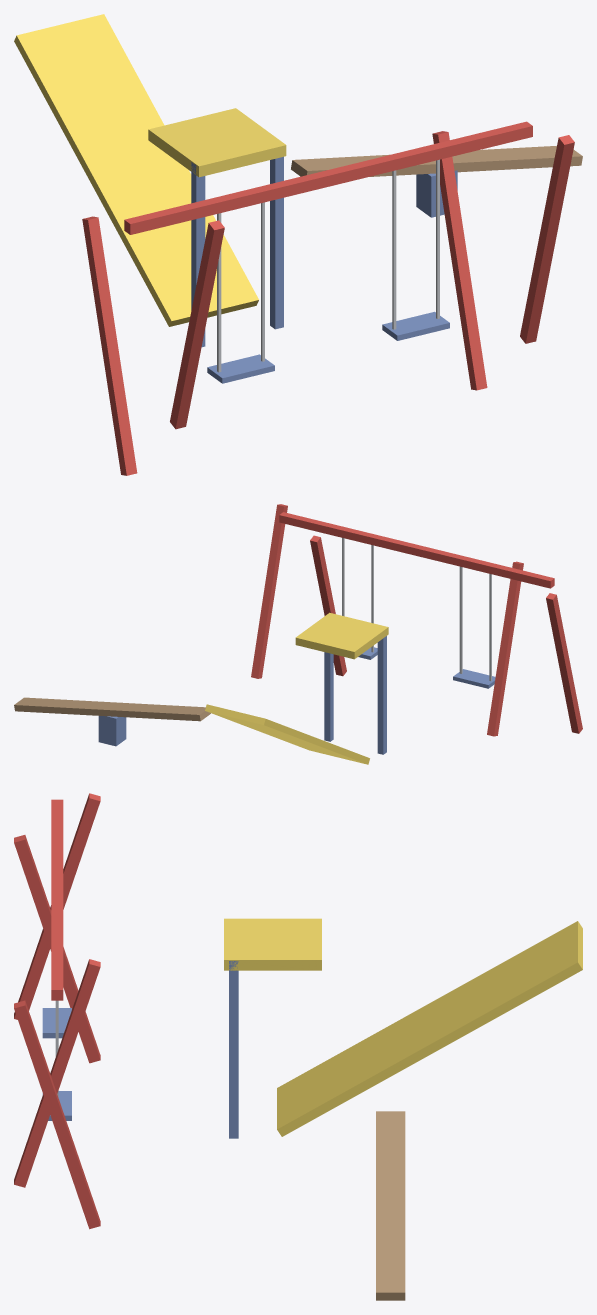
Rendered from playground.glb.
3 renders of one model, top to bottom at view 1: azimuth 30°, elevation 25°; view 2: azimuth 150°, elevation 25°; view 3: azimuth 270°, elevation 25°, orthographic. The views are drawn at different scales.
Visible parts, largest first — view 1: playground; view 2: playground; view 3: playground.
Boxes of the visible parts, x1=… form: playground: x1=14, y1=14, x2=582, y2=475; playground: x1=14, y1=504, x2=582, y2=764; playground: x1=14, y1=793, x2=582, y2=1300.
Size of the model in its own units: 7.34 by 2.57 by 5.8.
